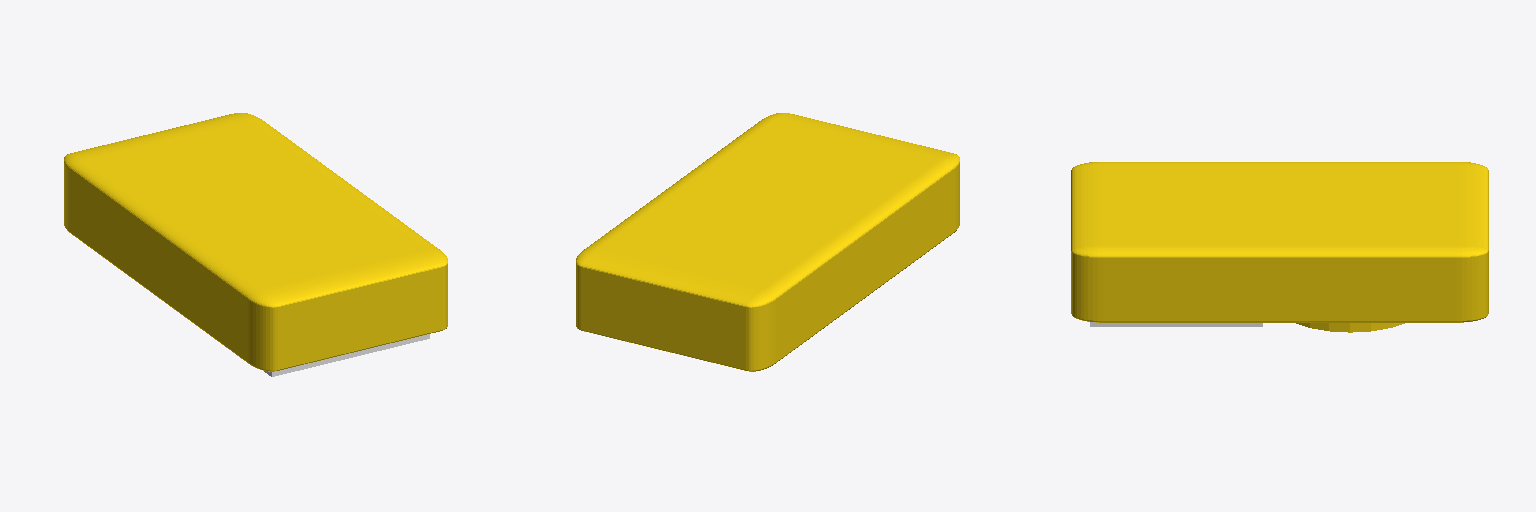
File: Button.obj
The picture shows the model from 3 angles: view 1: azimuth 30°, elevation 25°; view 2: azimuth 150°, elevation 25°; view 3: azimuth 270°, elevation 25°; orthographic projection.
Parts seen in each view (by area): view 1: obj_0; view 2: obj_0; view 3: obj_0.
Part boxes in pixels (x1,y1,x2,y2): obj_0: (64, 113, 447, 376); obj_0: (576, 113, 959, 371); obj_0: (1071, 162, 1488, 332).
Size of the model in its own units: 22 by 11 by 41.